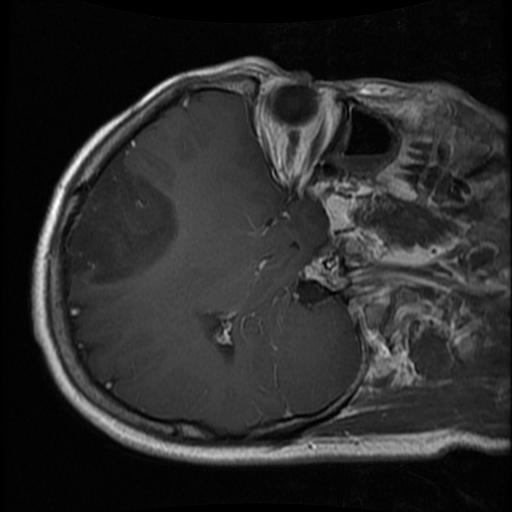glioma: (70, 150, 178, 287)
